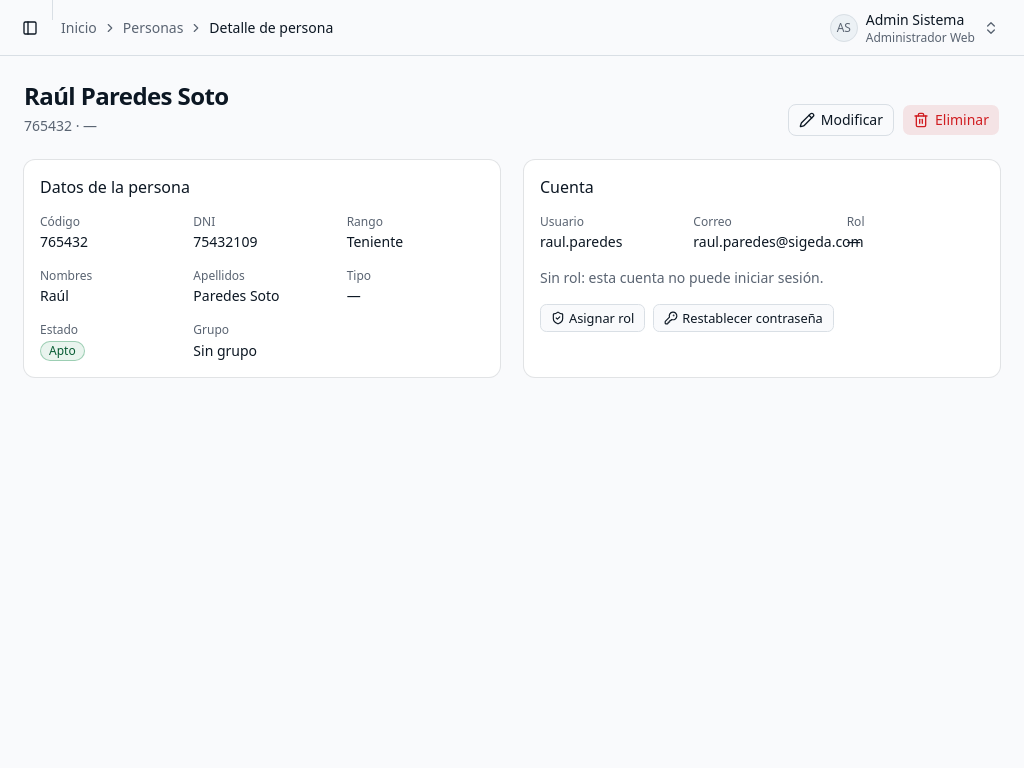
Test: Detalle de persona › CA-PER-07 una cuenta sin rol acepta cualquier tipo
Expected: the heading "Cuenta" is shown, [540,176,594,198]
Click the button "Modificar" at coordinates (841, 120), box [788,104,894,136]
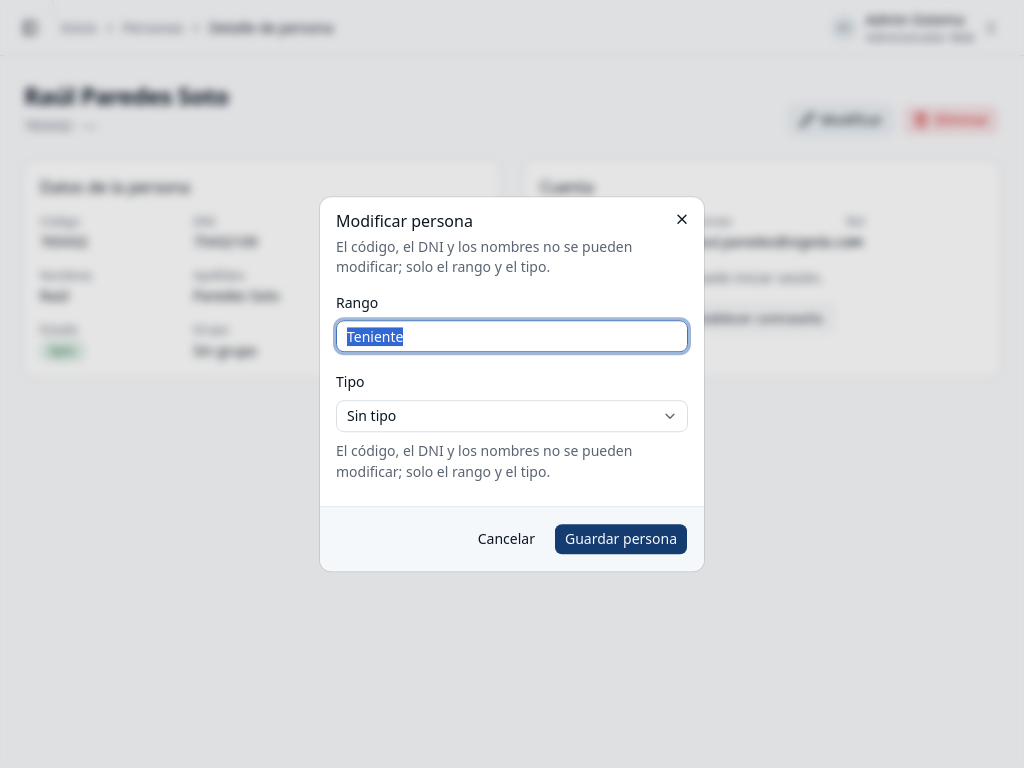
Select "Instructor PDI" in the dropdown labelled "Tipo" at coordinates (512, 416), box [336,400,688,432]
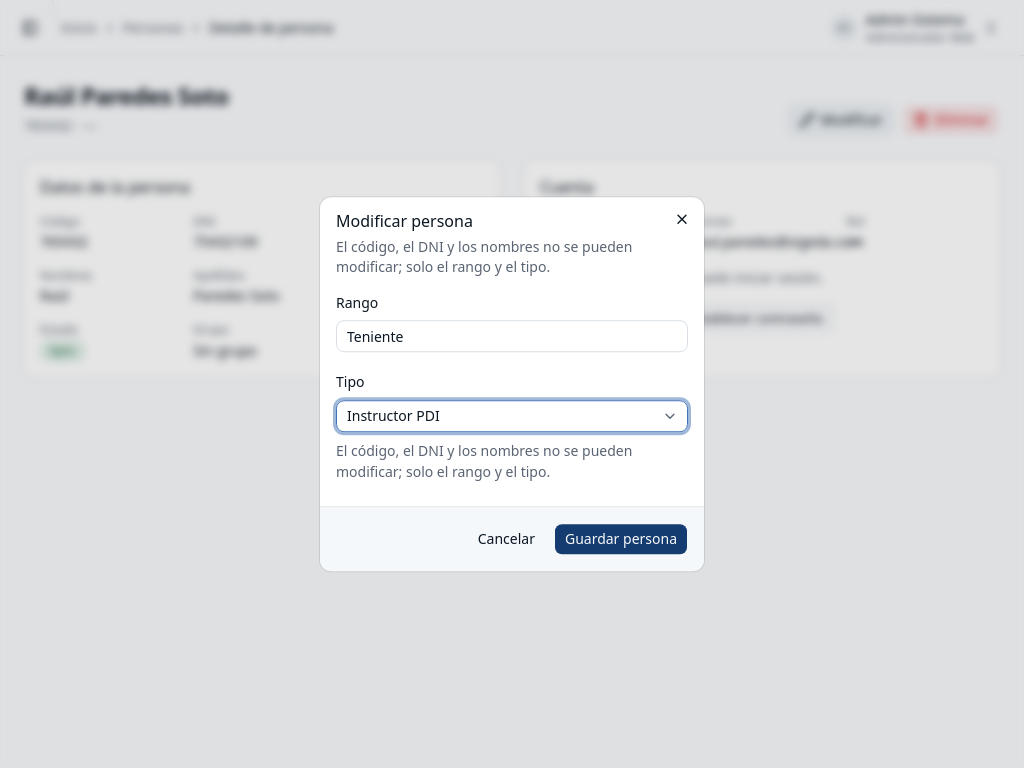
Click the button "Guardar persona" at coordinates (621, 539), box [554,523,688,555]
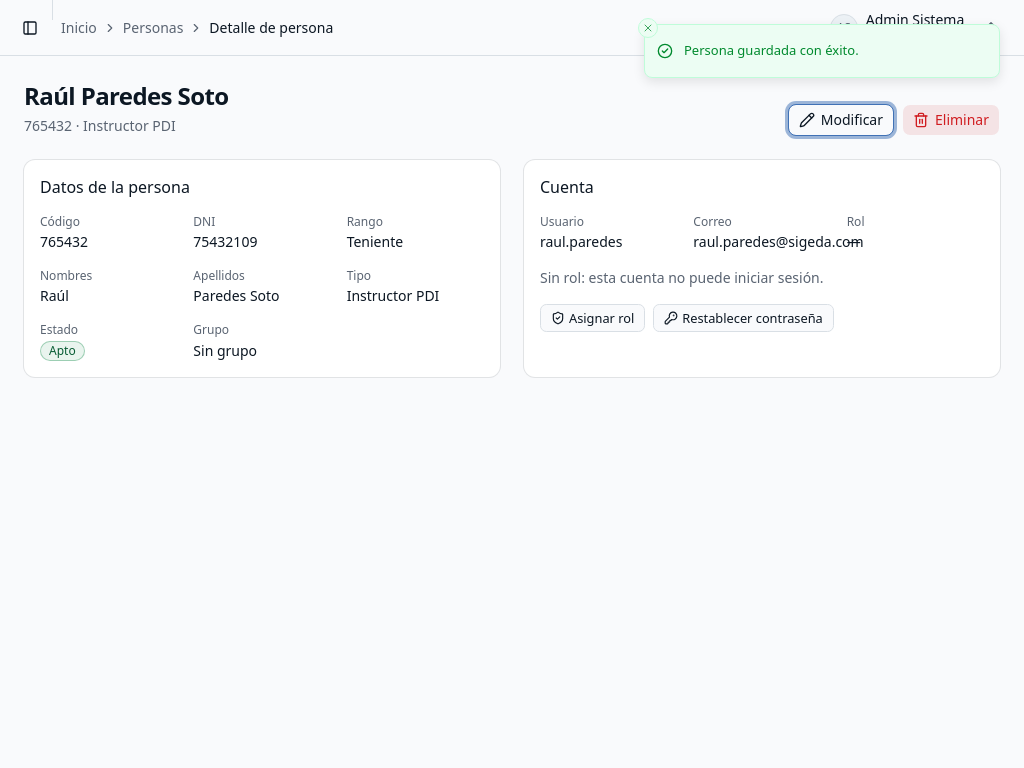
Now the text "Persona guardada con éxito." is shown, box [684,41,859,60]
Now the dialog is gone
Now the text "Instructor PDI" is shown, box [347,286,439,305]
